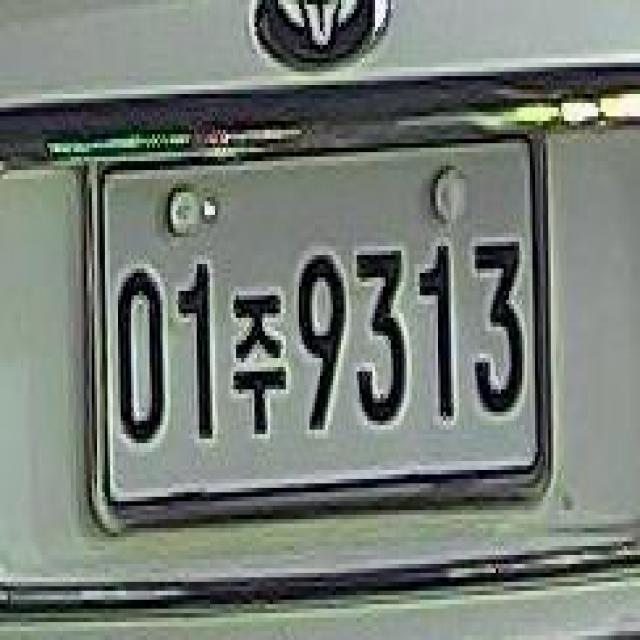illegal_plate: (80, 122, 560, 538)
